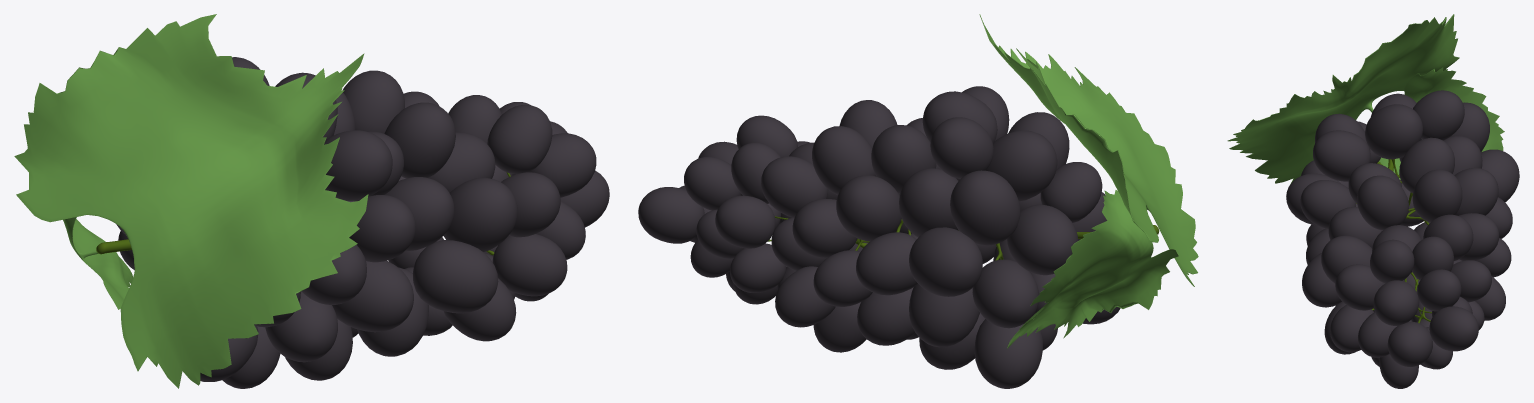
The model's file is GrapesBlue.fbx.
3 renders of one model, left to right at view 1: azimuth 30°, elevation 25°; view 2: azimuth 150°, elevation 25°; view 3: azimuth 270°, elevation 25°, orthographic. The views are drawn at different scales.
Parts seen in each view (by area): view 1: grapesBlueFoliage, grapesBlueBerries; view 2: grapesBlueBerries, grapesBlueFoliage; view 3: grapesBlueBerries, grapesBlueFoliage, grapesBlueBranch.
Part boxes in pixels (box(x1,y1,x2,y2)): grapesBlueFoliage: box(14, 14, 368, 388); grapesBlueBerries: box(116, 57, 609, 388); grapesBlueBerries: box(638, 86, 1120, 388); grapesBlueFoliage: box(979, 14, 1198, 348); grapesBlueBerries: box(1286, 90, 1519, 388); grapesBlueFoliage: box(1227, 14, 1504, 184); grapesBlueBranch: box(1356, 159, 1431, 323).
Bounding box in the file's own units: 16.18 × 9.93 × 10.12.
